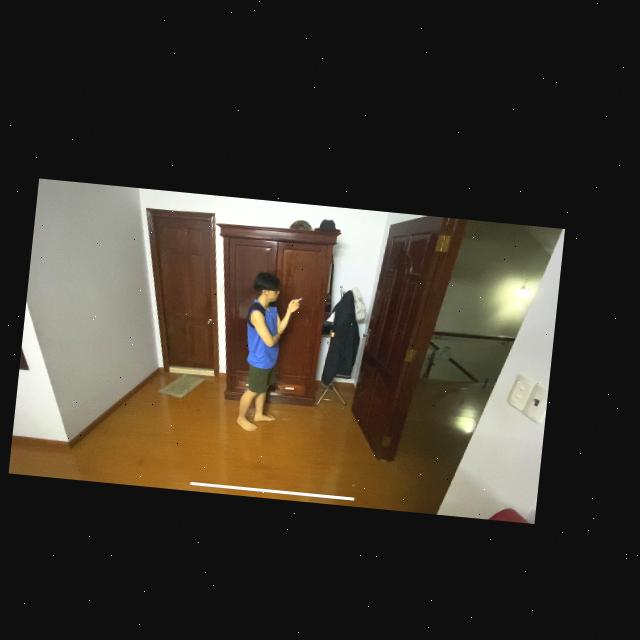cigarette: (301, 290, 309, 296)
